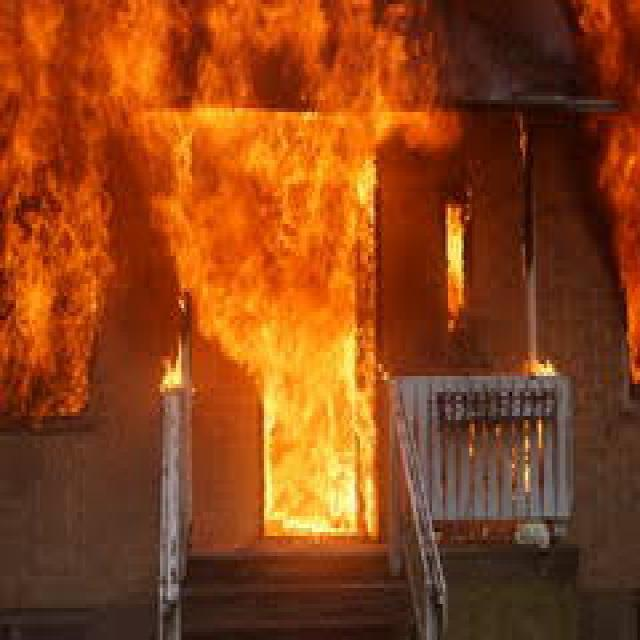Fire: (0, 0, 465, 539), (570, 0, 640, 384)
